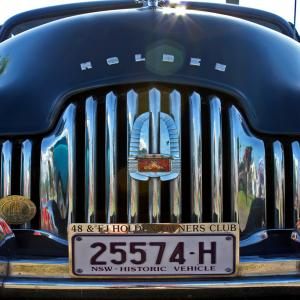Vehicle-registration-plate: (64, 227, 244, 283)
